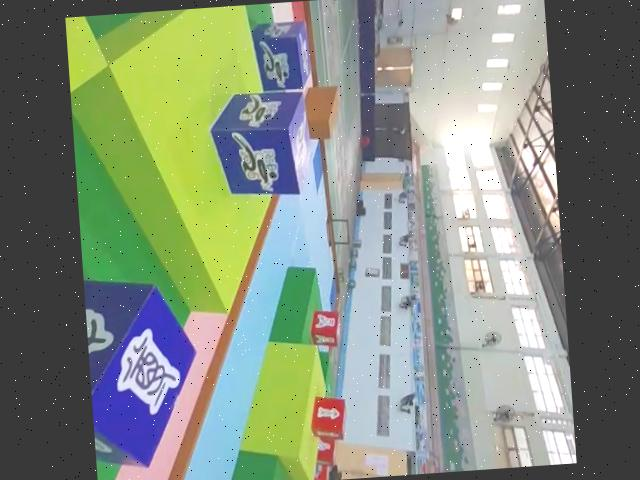R1 Blue: (207, 87, 312, 201), (247, 20, 309, 94)
R2 Fake Blue: (83, 277, 203, 468)
